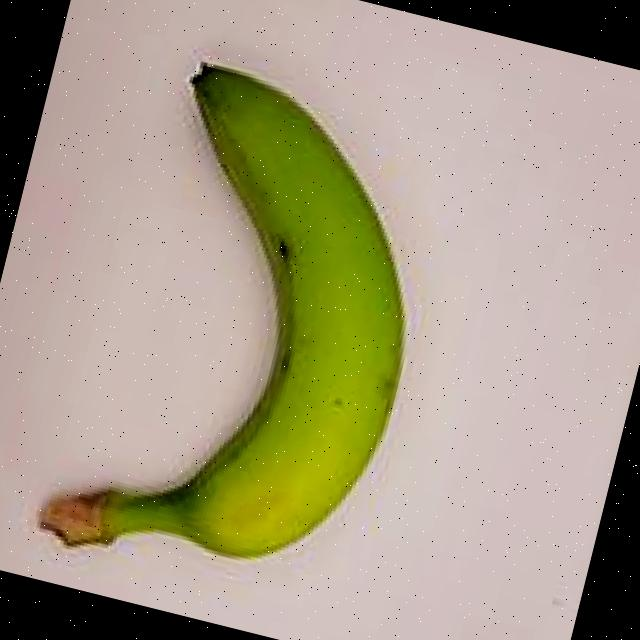Unripe: (8, 21, 493, 640)
